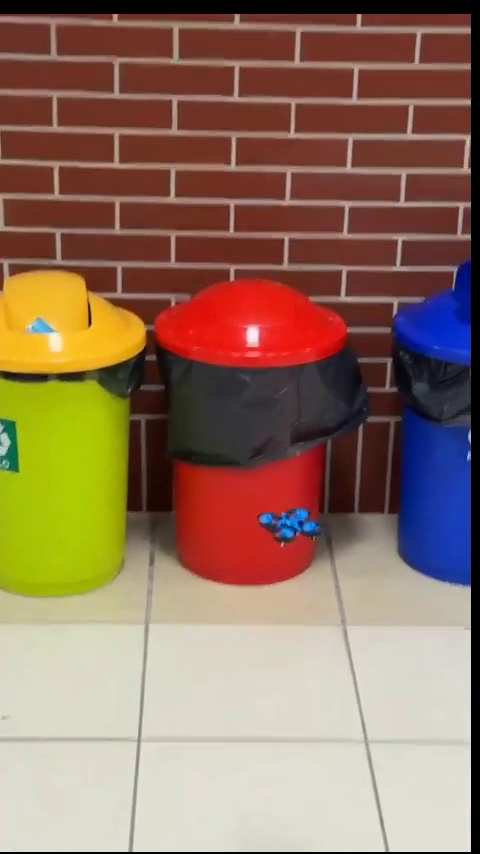drone: (257, 504, 325, 547)
